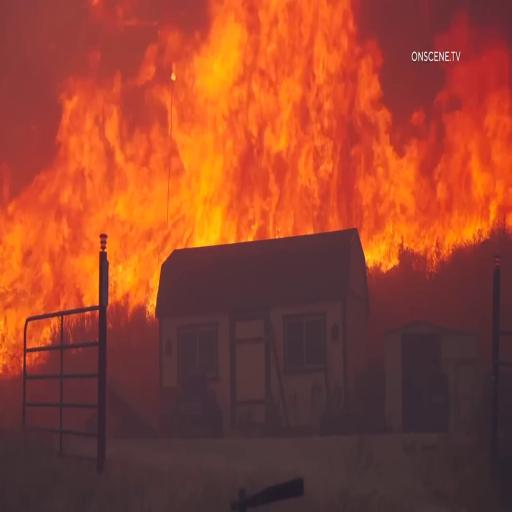fire: (0, 1, 391, 243), (0, 76, 151, 307), (402, 60, 512, 270)
